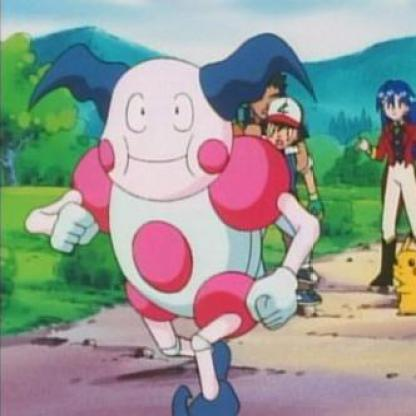Mr. Mime: (1, 1, 416, 416)
